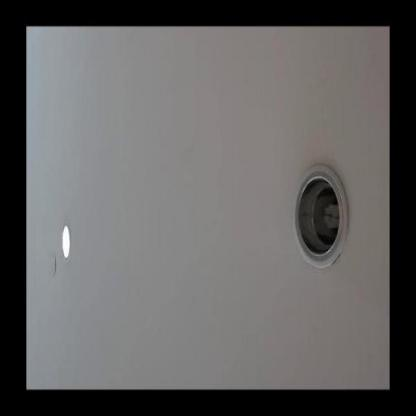light_off: (284, 145, 357, 282)
